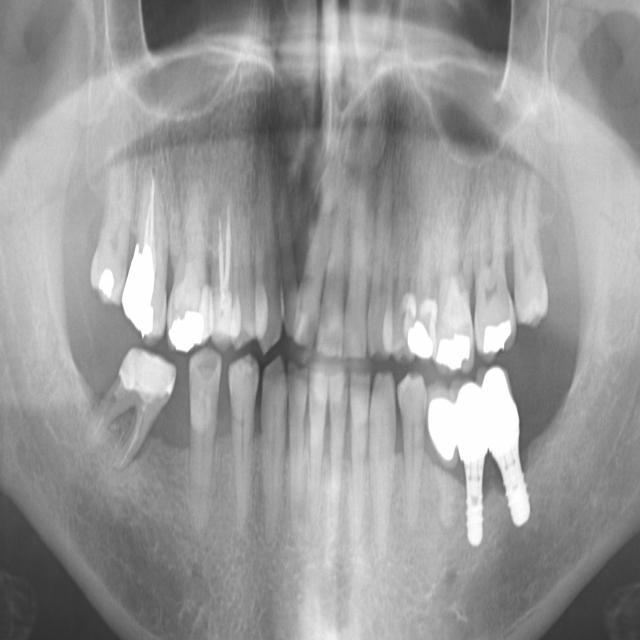infected-teeth: (74, 343, 176, 511), (125, 147, 170, 330), (208, 172, 242, 348)
